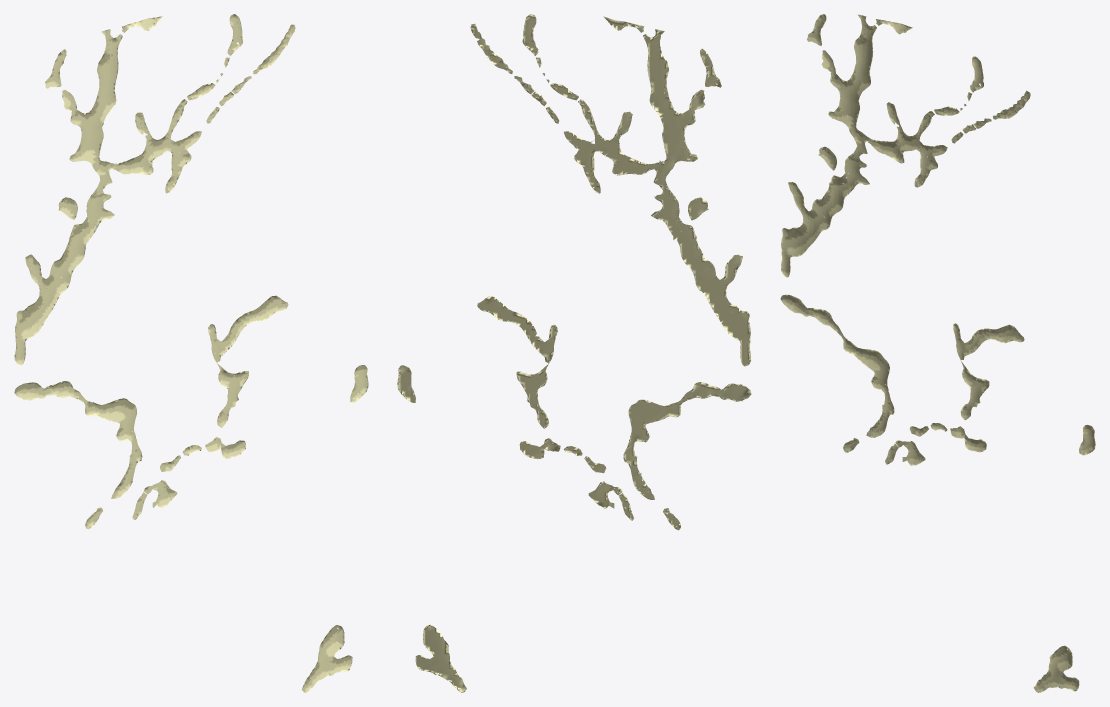
The picture shows the model from 3 angles, left to right: view 1: azimuth 30°, elevation 25°; view 2: azimuth 150°, elevation 25°; view 3: azimuth 330°, elevation 25°; orthographic projection. The views are drawn at different scales.
Visible parts, largest first — view 1: Switch_Switch_osgPicked_gmeGeoEntityGeode_Geometry_Geometry_ (×4), Switch_Switch_osgPicked_gmeGeoEntityGeode_Geometry_0; view 2: Switch_Switch_osgPicked_gmeGeoEntityGeode_Geometry_Geometry_ (×4), Switch_Switch_osgPicked_gmeGeoEntityGeode_Geometry_0; view 3: Switch_Switch_osgPicked_gmeGeoEntityGeode_Geometry_Geometry_ (×4), Switch_Switch_osgPicked_gmeGeoEntityGeode_Geometry_0.
Boxes of the visible parts, bbox=[...] form: Switch_Switch_osgPicked_gmeGeoEntityGeode_Geometry_Geometry_ (×4): bbox=[14, 29, 352, 692]; Switch_Switch_osgPicked_gmeGeoEntityGeode_Geometry_0: bbox=[14, 381, 142, 498]; Switch_Switch_osgPicked_gmeGeoEntityGeode_Geometry_Geometry_ (×4): bbox=[415, 29, 750, 692]; Switch_Switch_osgPicked_gmeGeoEntityGeode_Geometry_0: bbox=[623, 382, 751, 499]; Switch_Switch_osgPicked_gmeGeoEntityGeode_Geometry_Geometry_ (×4): bbox=[781, 14, 1079, 692]; Switch_Switch_osgPicked_gmeGeoEntityGeode_Geometry_0: bbox=[780, 294, 894, 437].
Size of what is drawn, in the model's own units: 38516 by 73850 by 646.
